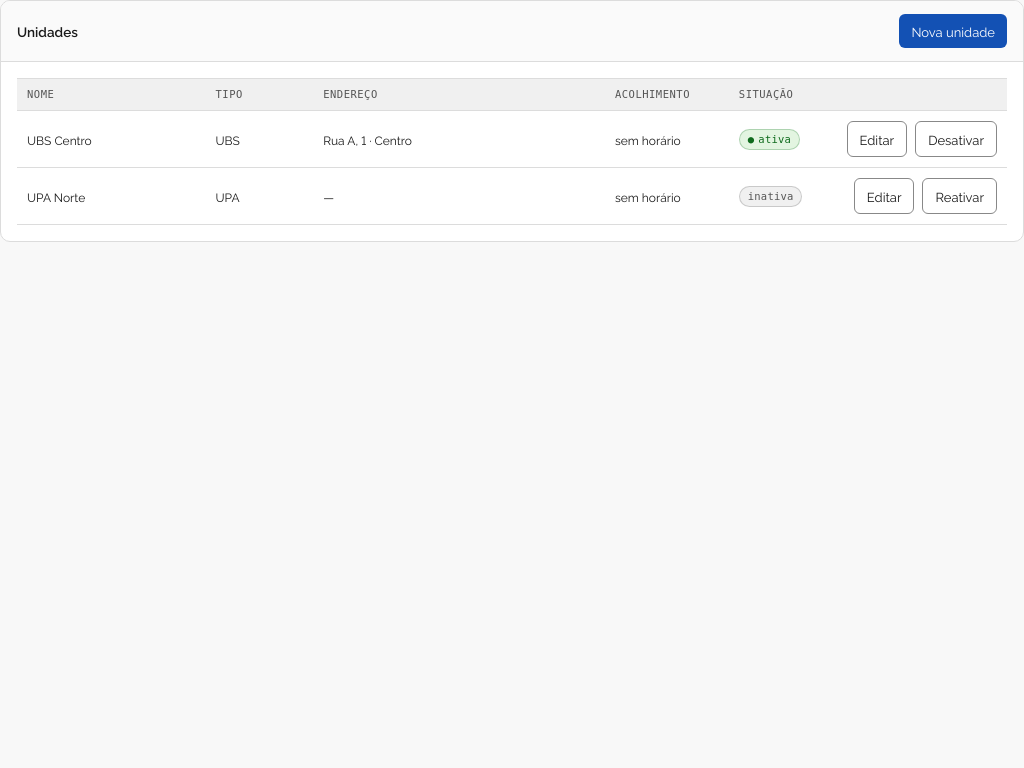
Test: Units › edita uma unidade
The width and height of the screenshot is (1024, 768).
Click the button "Editar" in the row of "UBS Centro". click: {"x": 877, "y": 139}
box: [846,121,907,157]
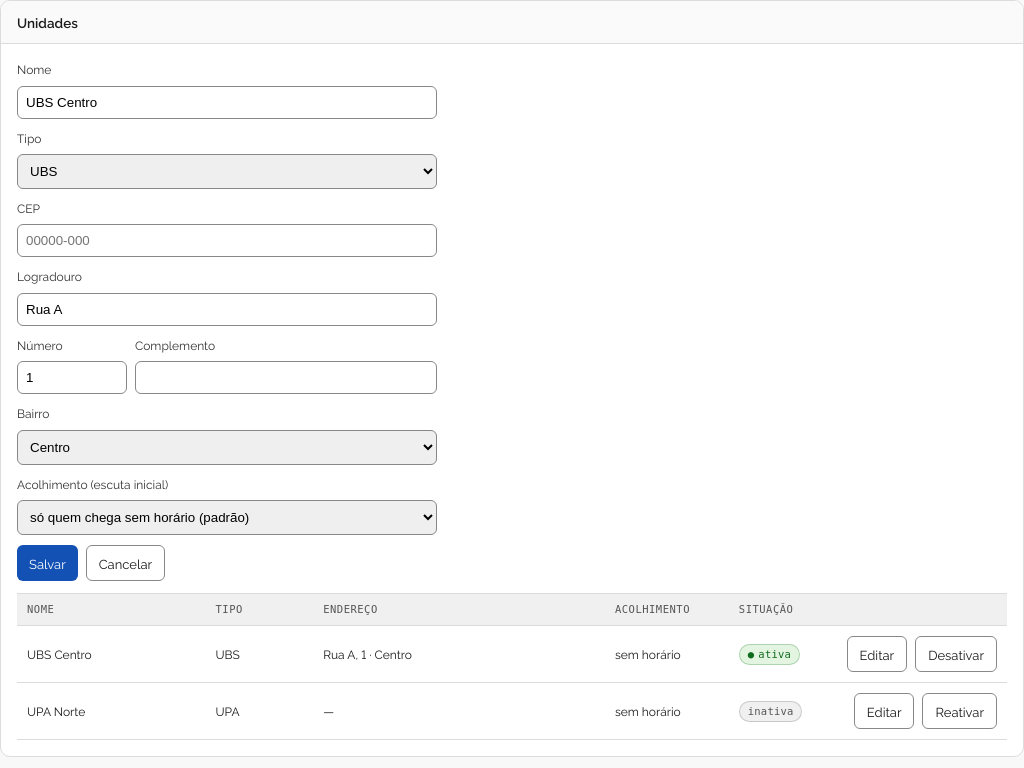
Replace the text in the field labelled "Nome" with "UBS Centro Novo". click: {"x": 227, "y": 102}
box: [17,86,437,119]
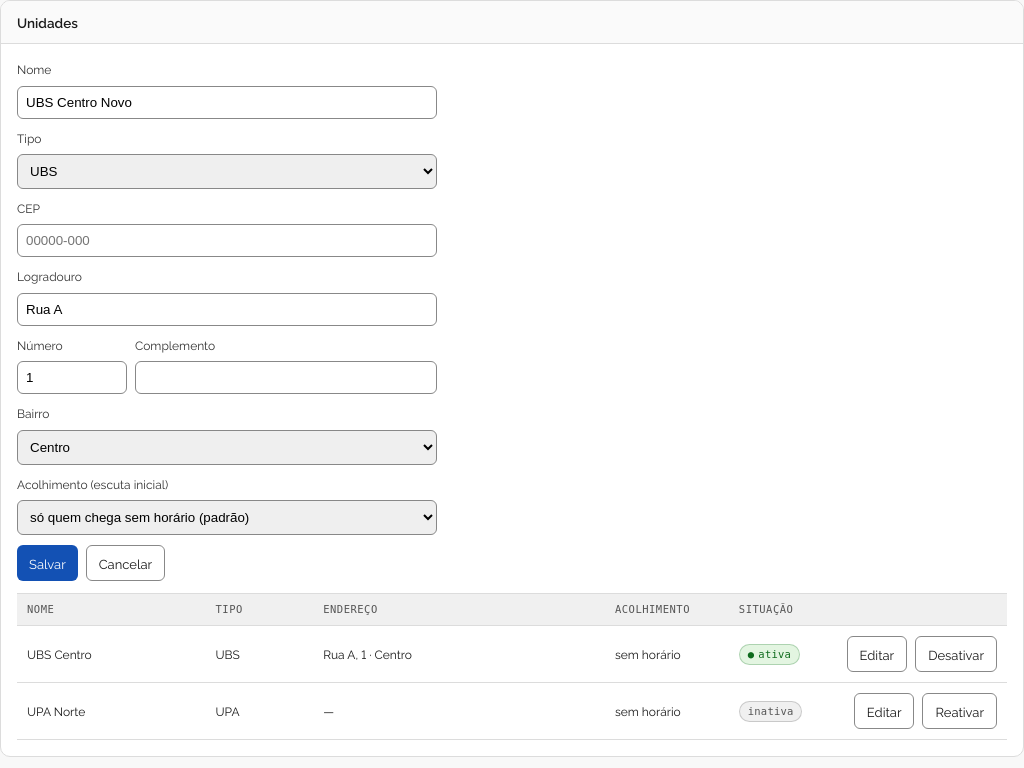
Click the button "Salvar". click: {"x": 47, "y": 563}
box: [17,545,78,581]
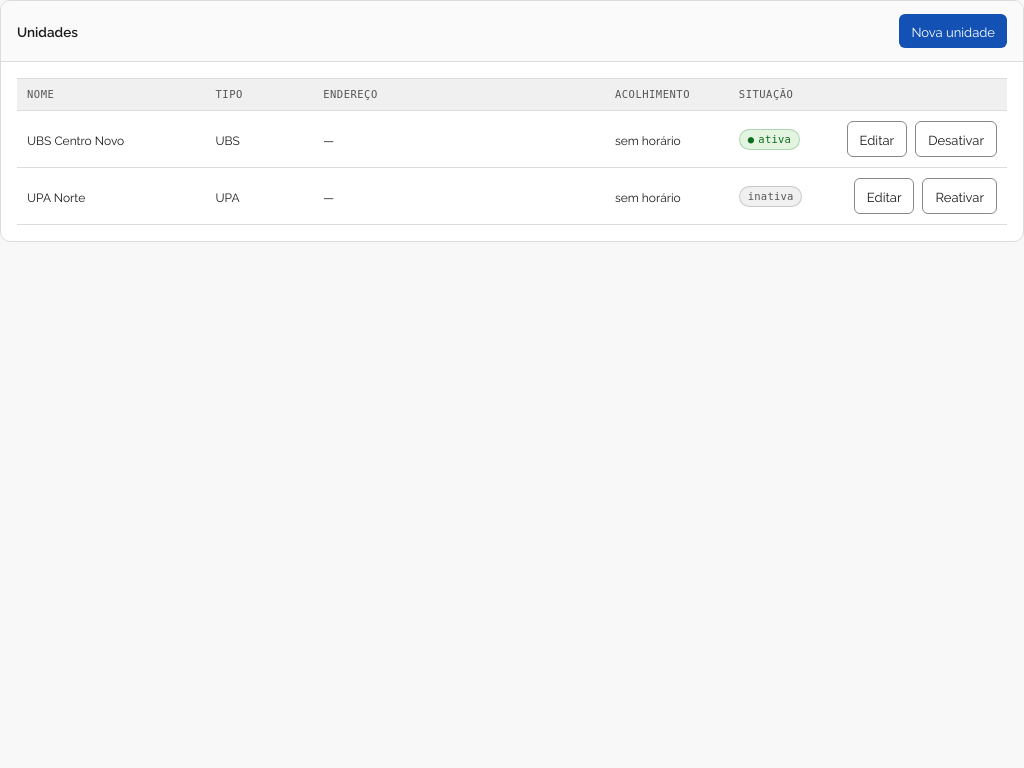
Check: the text "UBS Centro Novo" is shown, box [27,130,124,148]
